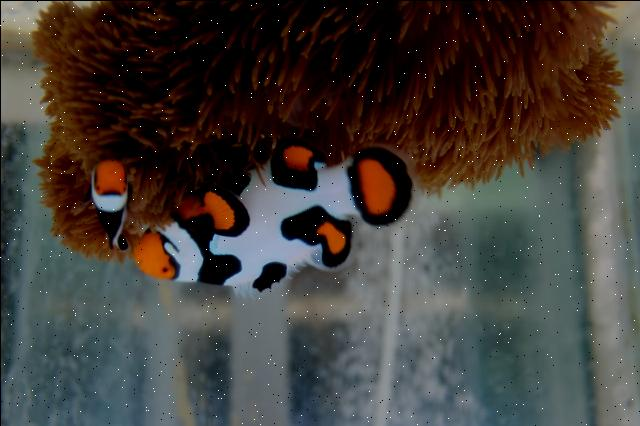Mulut: (121, 229, 159, 279)
Sirip Anal: (265, 117, 333, 183)
Sirip Dada: (201, 179, 259, 241)
Sirip Ekor: (343, 128, 432, 239)
Sirip Perut: (170, 176, 206, 232)
Sirip Punggung: (240, 218, 360, 310)
